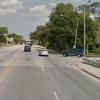Car: (34, 46, 53, 61)
